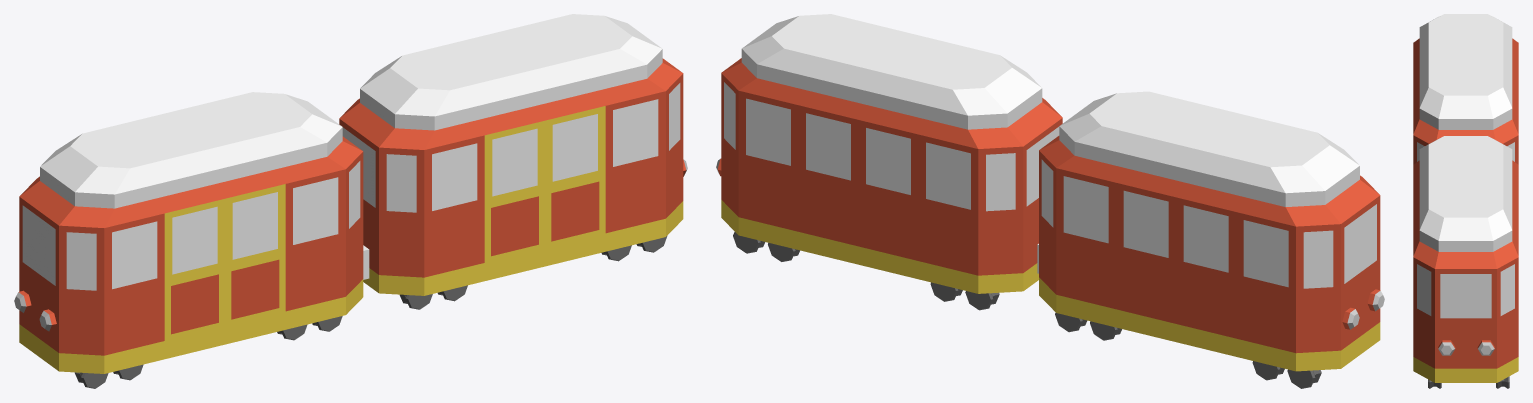
The model's file is Tram2.fbx.
3 views of the same model, side by side, from view 1: azimuth 30°, elevation 25°; view 2: azimuth 150°, elevation 25°; view 3: azimuth 270°, elevation 25° (orthographic). The views are drawn at different scales.
Visible parts, largest first — view 1: Tram; view 2: Tram; view 3: Tram.
Boxes of the visible parts, <box> form: Tram: <box>14,14,687,388</box>; Tram: <box>716,14,1384,388</box>; Tram: <box>1413,14,1518,388</box>.
Bounding box in the file's own units: 1942 × 616 × 355.
